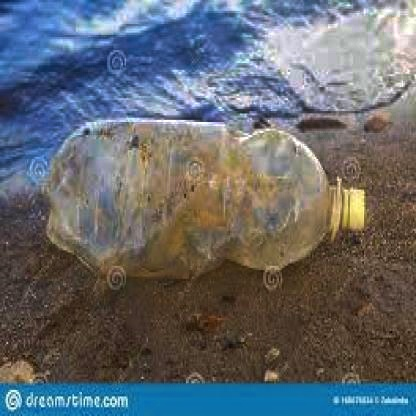pbottle: (30, 107, 373, 281)
